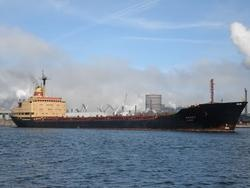Cargoship: (10, 56, 247, 133)
